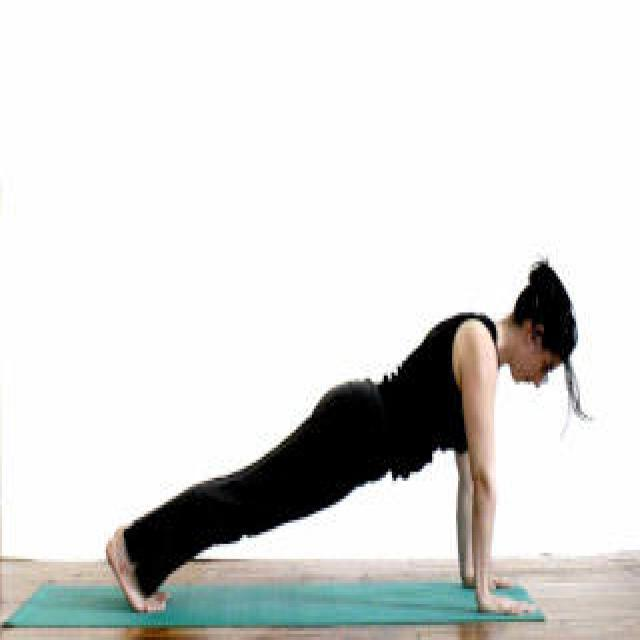yoga-pose plank: (103, 259, 578, 625)
